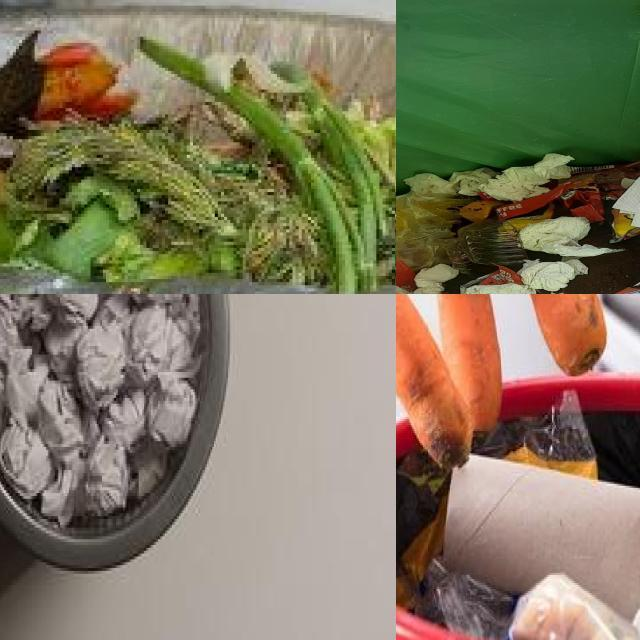Disposable: (458, 216, 540, 266)
Garbage: (0, 21, 396, 294), (396, 391, 640, 640), (396, 155, 640, 294)
Paper: (0, 294, 200, 529)
Plastic_Bag: (396, 194, 469, 271)
Plastic_wraper: (561, 189, 605, 222), (609, 210, 640, 243)
contaminated_waste: (499, 397, 599, 467), (437, 551, 515, 640)
top_view_waste: (0, 294, 206, 524)
